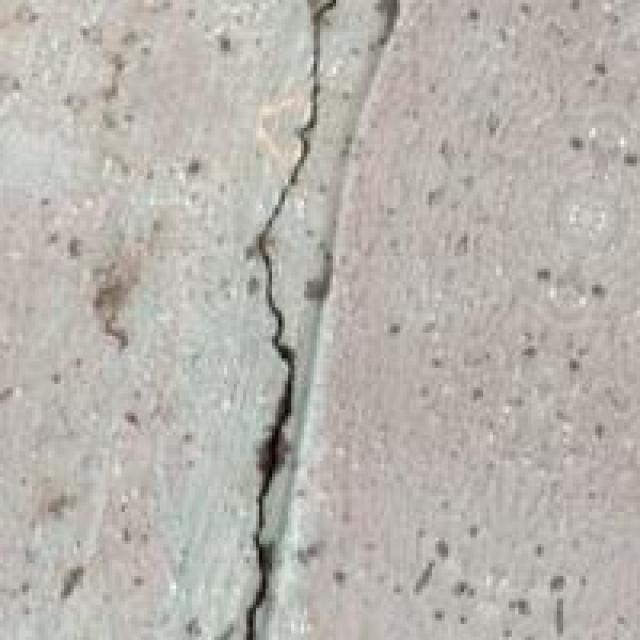crack: (189, 0, 416, 637)
